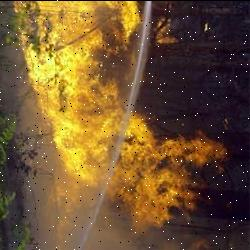fire: (12, 0, 231, 240)
